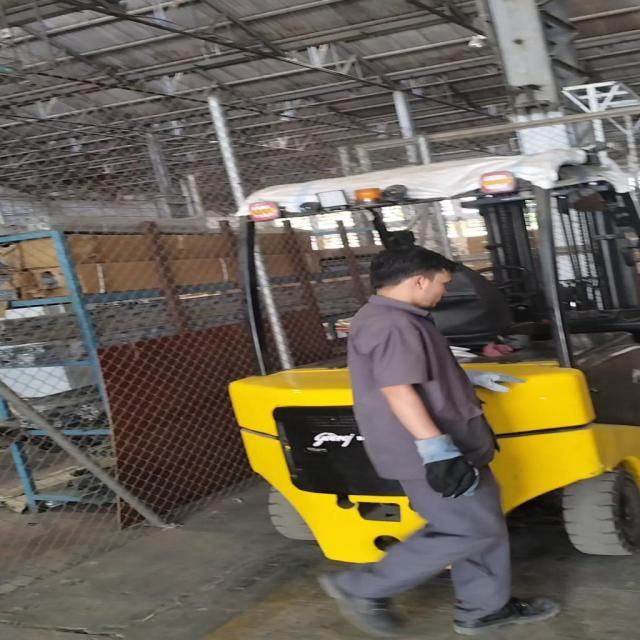Gloves-Detection: (404, 432, 477, 503), (459, 367, 525, 398)
